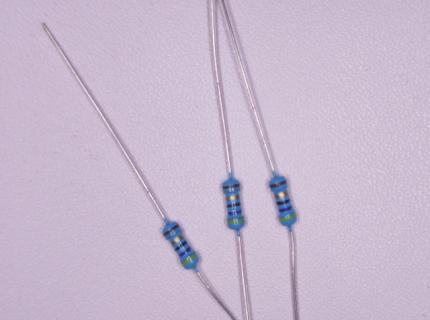Gold band: (170, 235, 184, 246), (275, 191, 289, 200), (225, 195, 240, 201)
Violet band: (179, 246, 192, 258), (278, 205, 292, 213), (228, 210, 241, 216)
Yellow band: (182, 253, 198, 267), (279, 213, 297, 222), (227, 218, 244, 225)
